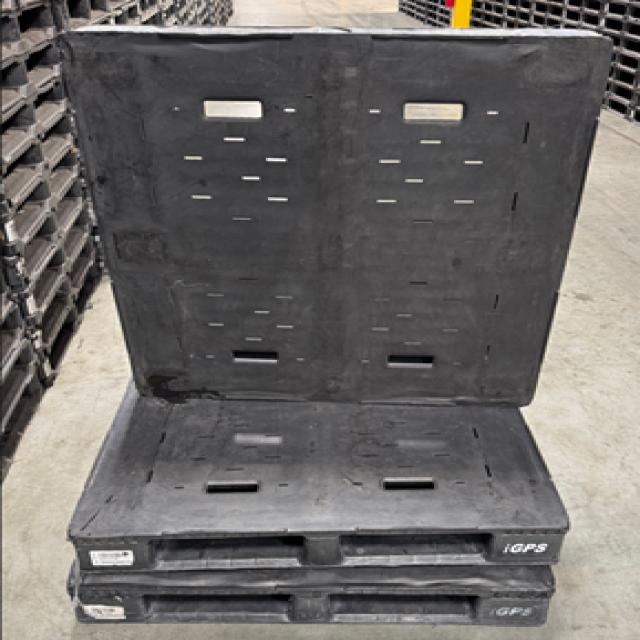igps: (51, 21, 613, 412), (51, 371, 576, 630)
